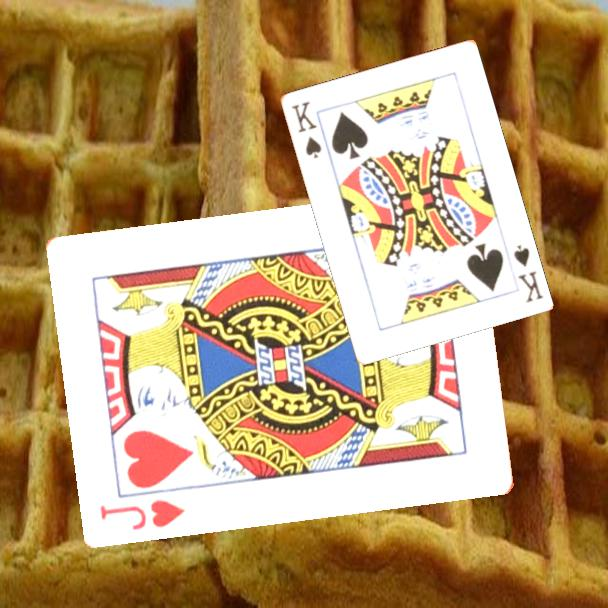h11: (97, 495, 189, 532)
s13: (510, 241, 546, 305), (288, 98, 324, 161)
